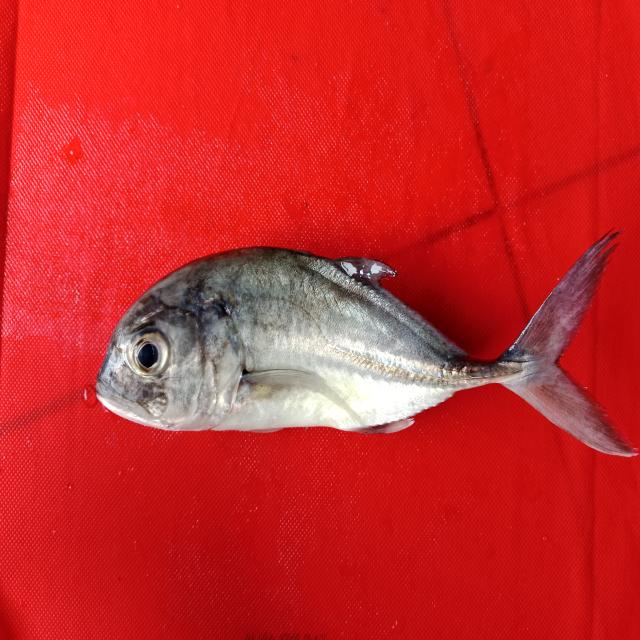ikan: (81, 218, 636, 470)
